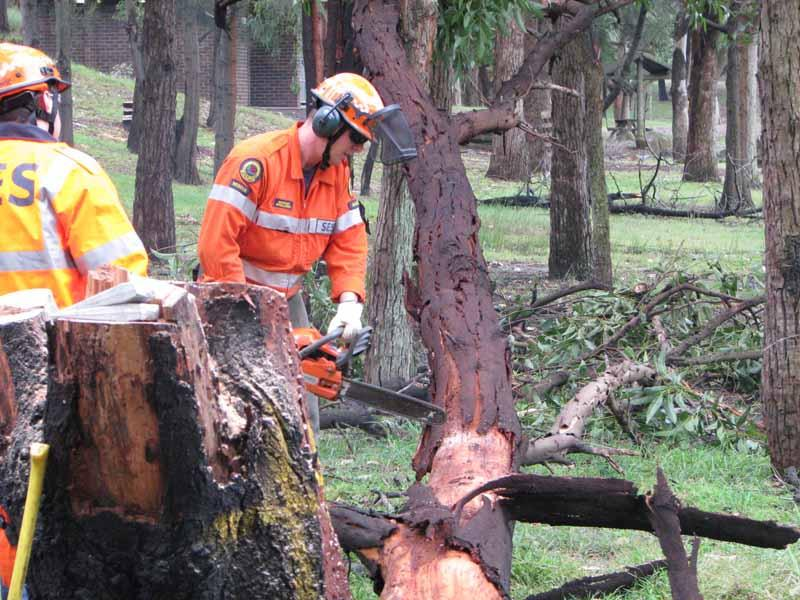person: (195, 73, 420, 354)
